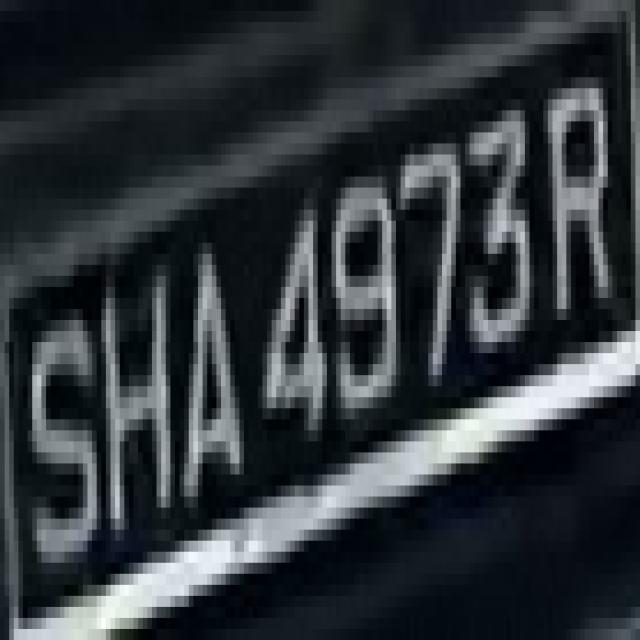3: (447, 88, 548, 364)
4: (249, 187, 336, 463)
7: (378, 110, 470, 420)
8: (313, 154, 405, 452)
A: (161, 221, 249, 518)
H: (96, 265, 180, 552)
R: (534, 66, 617, 353)
S: (18, 287, 102, 585)
